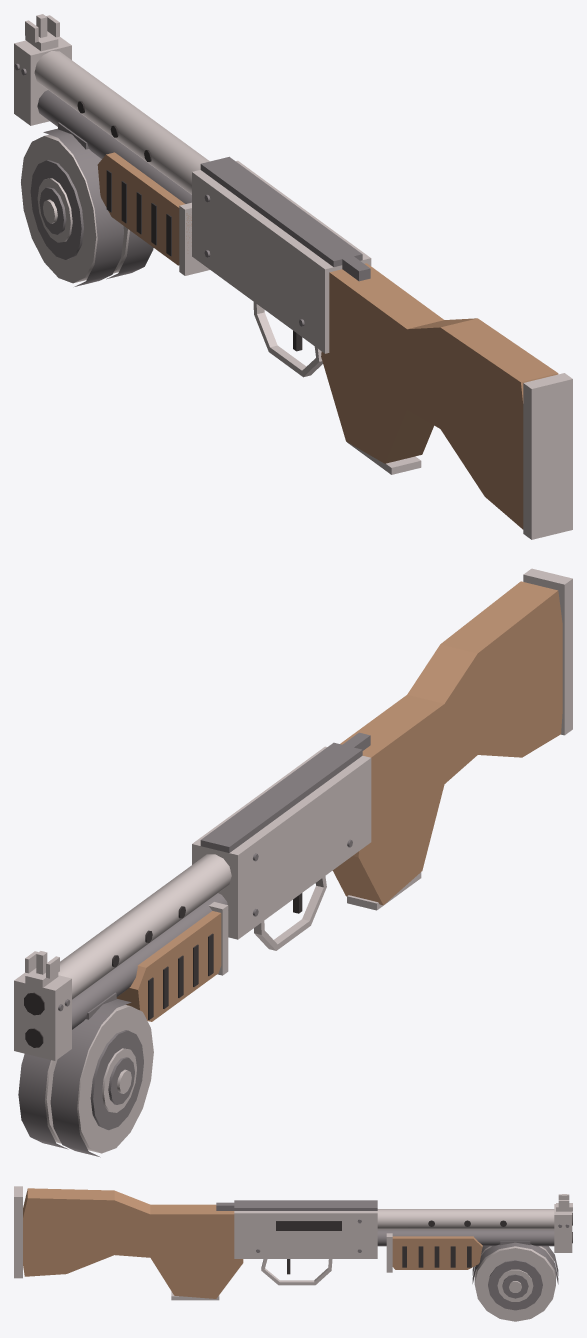
The model's file is drum_shotgun_assembled.glb.
3 renders of one model, top to bottom at view 1: azimuth 30°, elevation 25°; view 2: azimuth 150°, elevation 25°; view 3: azimuth 270°, elevation 25°, orthographic. The views are drawn at different scales.
Visible parts, largest first — view 1: stock, receiver, barrel_shroud, drum_magazine, pump_forend, front_sight; view 2: stock, receiver, drum_magazine, barrel_shroud, pump_forend, front_sight; view 3: stock, receiver, barrel_shroud, drum_magazine, pump_forend, front_sight.
Part boxes in pixels (<box>): stock: <box>321,263,572,539</box>; receiver: <box>192,156,371,377</box>; barrel_shroud: <box>14,36,209,203</box>; drum_magazine: <box>21,122,153,286</box>; pump_forend: <box>97,152,209,275</box>; front_sight: <box>25,14,59,51</box>; stock: <box>332,568,572,910</box>; receiver: <box>192,732,371,950</box>; drum_magazine: <box>18,992,153,1157</box>; barrel_shroud: <box>14,854,231,1060</box>; pump_forend: <box>116,902,228,1021</box>; front_sight: <box>25,951,59,987</box>; stock: <box>14,1186,243,1300</box>; receiver: <box>216,1200,377,1285</box>; barrel_shroud: <box>377,1204,572,1252</box>; drum_magazine: <box>472,1241,558,1321</box>; pump_forend: <box>386,1233,482,1272</box>; front_sight: <box>556,1194,572,1211</box>.
Size of the model in its own units: 0.08 by 0.2295 by 0.9342.
